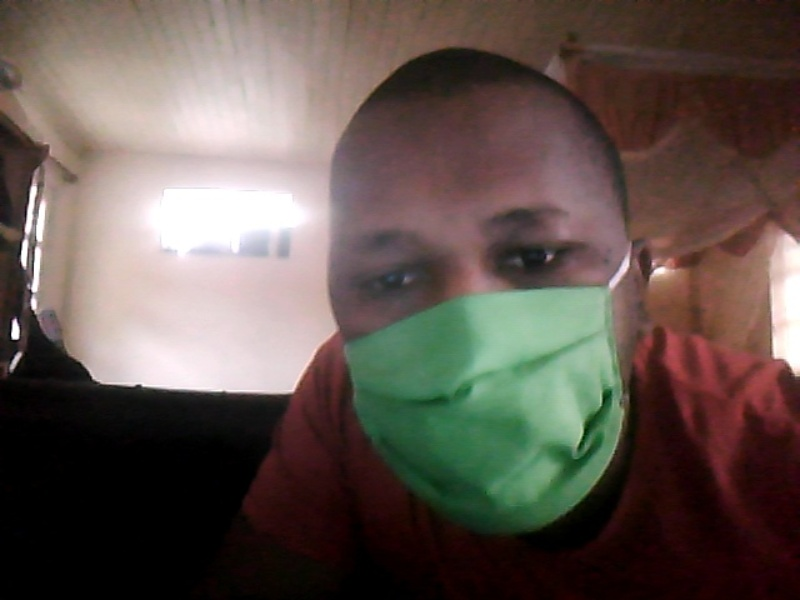ManaoArotava: (310, 71, 675, 548)
